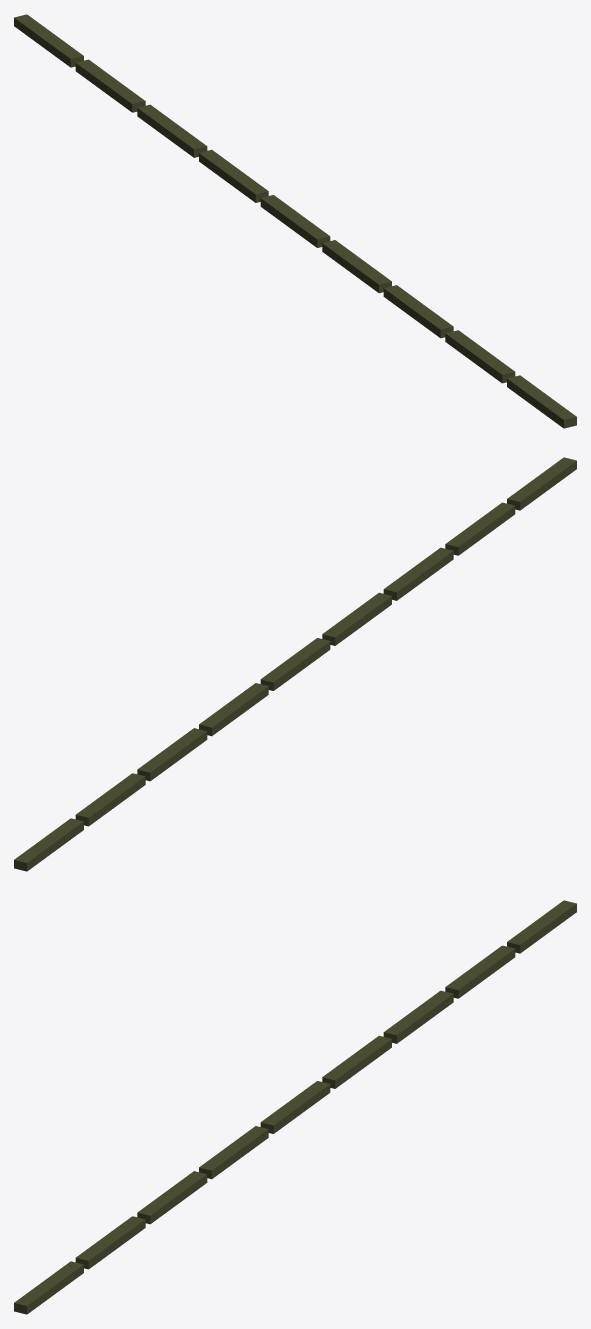
Rendered from Rumput_01.fbx.
The picture shows the model from 3 angles, top to bottom: view 1: azimuth 30°, elevation 25°; view 2: azimuth 150°, elevation 25°; view 3: azimuth 330°, elevation 25°; orthographic projection.
Visible parts, largest first — view 1: Cube.067; view 2: Cube.067; view 3: Cube.067.
Boxes of the visible parts, bbox=[...] form: Cube.067: bbox=[14, 14, 576, 428]; Cube.067: bbox=[14, 457, 576, 871]; Cube.067: bbox=[14, 900, 576, 1314].
Bounding box in the file's own units: 80 × 50 × 5808.
